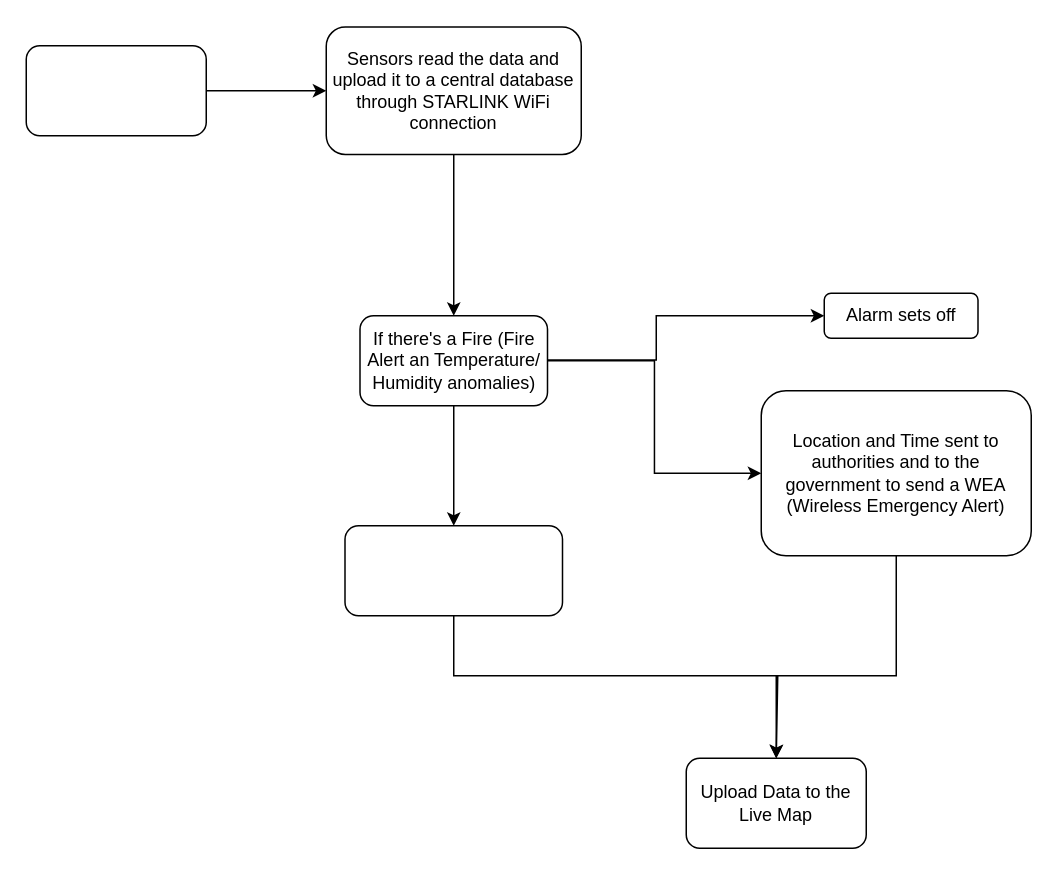
Image size: 1058x875. Some labels were removed from this diagram. Here are the shapes that lost their labels. From the top down, the centre of each, then its label:
At point (115, 90): "Install sensors and register location".
At point (453, 570): "Sensors continue to read data and calculate Forecast Prediction".
